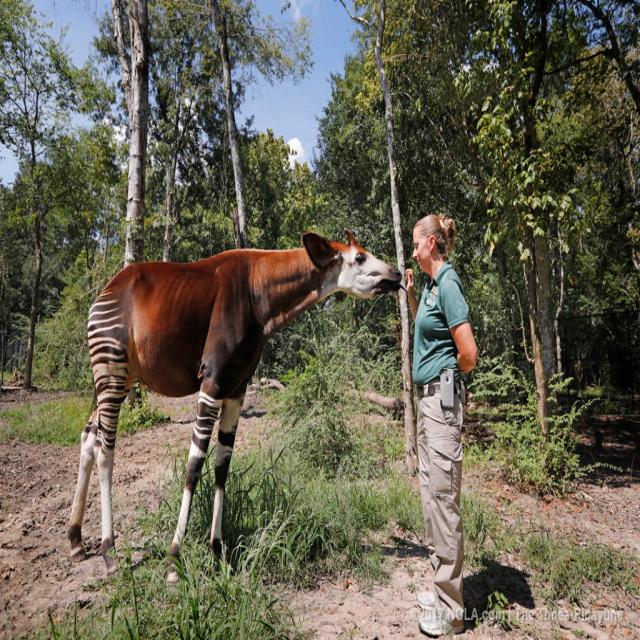Okapi: (63, 225, 400, 580)
